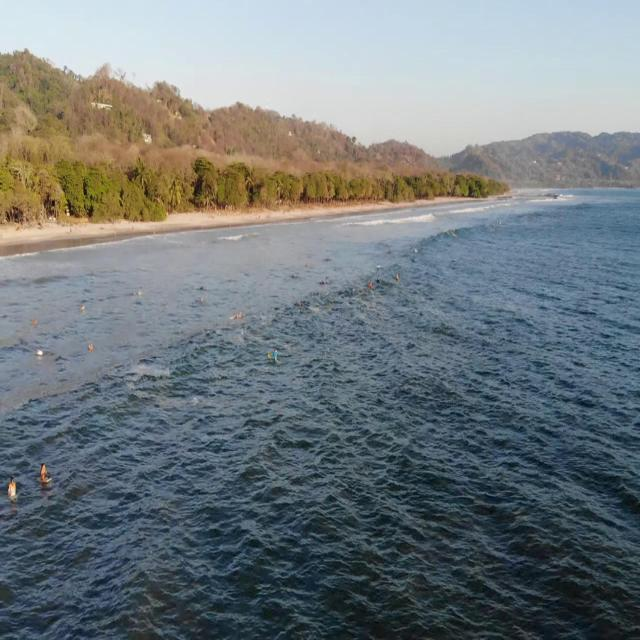kayak: (33, 460, 51, 493)
